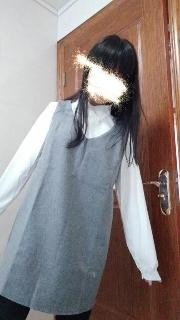long sleeve top: (0, 95, 161, 281)
vest: (0, 100, 128, 315)
